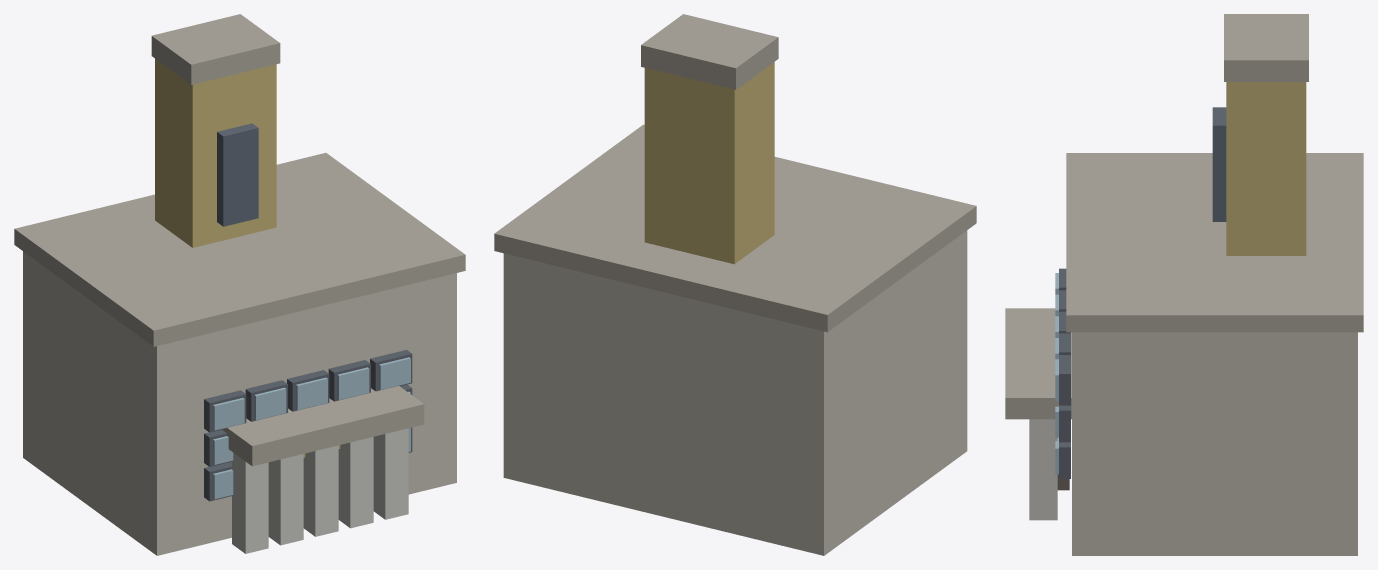
File: bank.glb
3 renders of one model, left to right at view 1: azimuth 30°, elevation 25°; view 2: azimuth 150°, elevation 25°; view 3: azimuth 270°, elevation 25°, orthographic. The views are drawn at different scales.
Visible parts, largest first — view 1: world; view 2: world; view 3: world.
Part boxes in pixels (x1=…): world: x1=14, y1=14, x2=465, y2=555; world: x1=494, y1=14, x2=976, y2=555; world: x1=1005, y1=14, x2=1363, y2=555.
Bounding box in the file's own units: 1.61 × 2.04 × 1.5.
